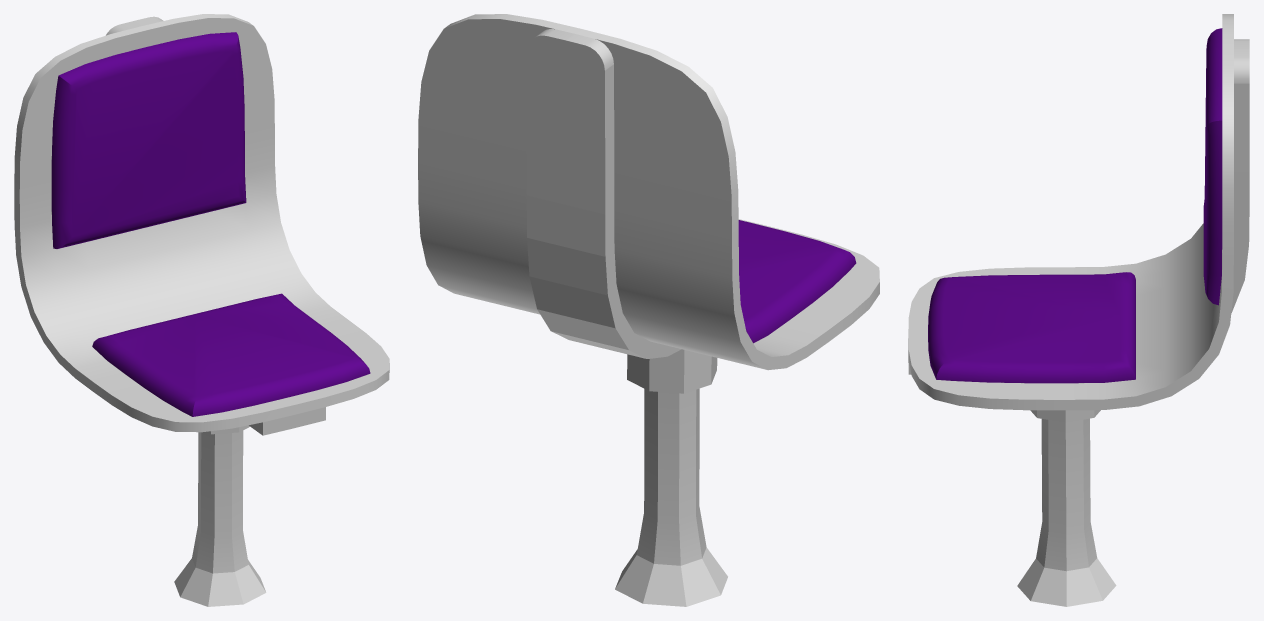
The model's file is chair.fbx.
3 views of the same model, side by side, from view 1: azimuth 30°, elevation 25°; view 2: azimuth 150°, elevation 25°; view 3: azimuth 270°, elevation 25° (orthographic). The views are drawn at different scales.
Parts seen in each view (by area): view 1: Cube.002; view 2: Cube.002; view 3: Cube.002.
Boxes of the visible parts, bbox=[...] form: Cube.002: bbox=[14, 14, 389, 606]; Cube.002: bbox=[418, 14, 879, 606]; Cube.002: bbox=[908, 14, 1249, 606].
Bounding box in the file's own units: 320 × 604 × 348.
